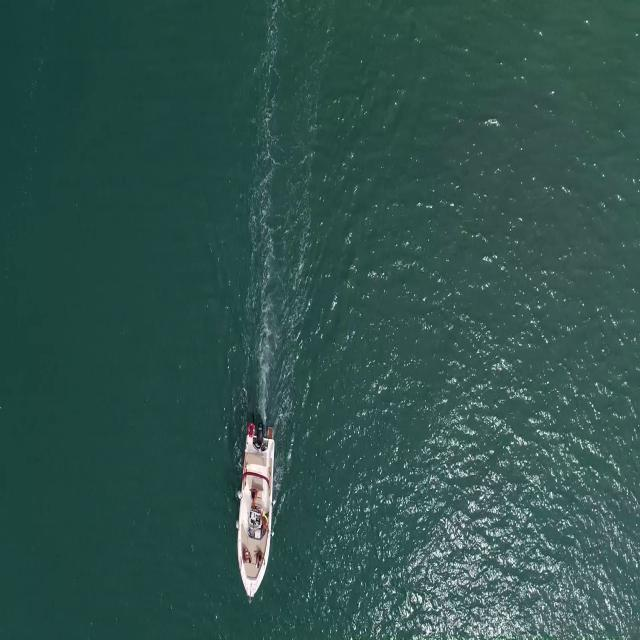boat: (233, 434, 276, 600)
life_buoy: (246, 423, 255, 436)
person: (240, 546, 253, 568), (260, 511, 271, 534), (248, 486, 258, 510), (256, 549, 265, 568)
